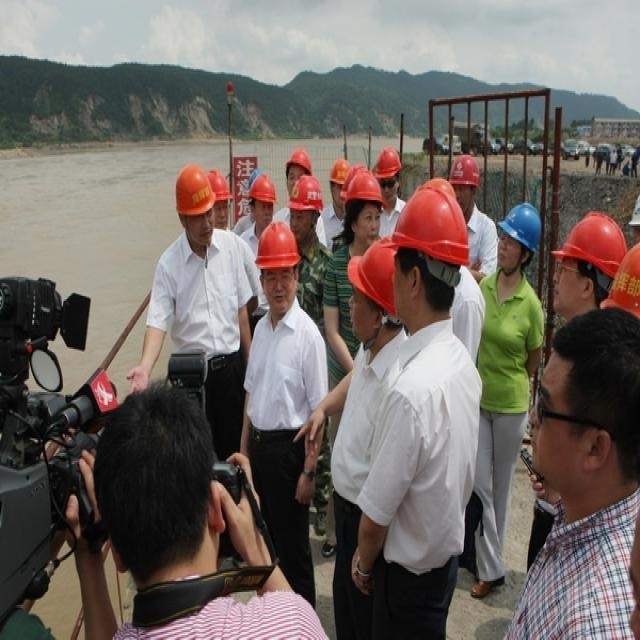Con_Casco: (258, 222, 299, 302), (175, 166, 217, 243), (498, 202, 538, 274)
Sin_Chaleco: (389, 325, 482, 578), (245, 306, 328, 436)
